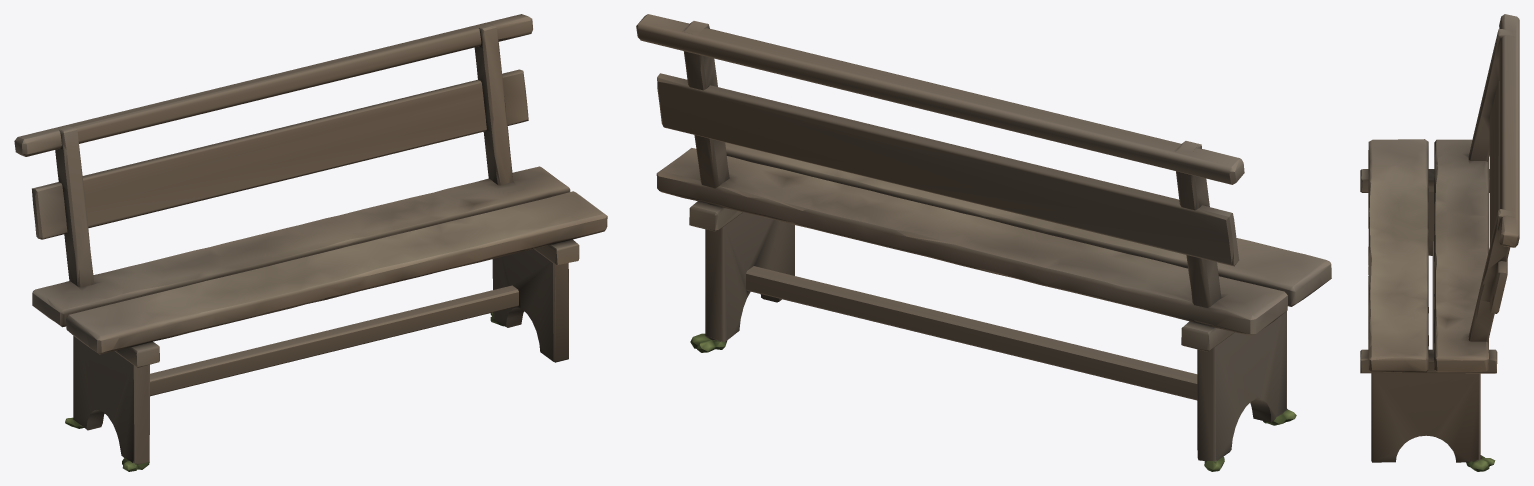
Rendered from lm_bench.glb.
3 views of the same model, side by side, from view 1: azimuth 30°, elevation 25°; view 2: azimuth 150°, elevation 25°; view 3: azimuth 270°, elevation 25° (orthographic). The views are drawn at different scales.
Parts seen in each view (by area): view 1: lm_bench_LOD0; view 2: lm_bench_LOD0; view 3: lm_bench_LOD0.
Boxes of the visible parts, <box> form: lm_bench_LOD0: <box>14,14,607,471</box>; lm_bench_LOD0: <box>636,14,1331,471</box>; lm_bench_LOD0: <box>1360,14,1519,471</box>.
Size of what is drawn, in the model's own units: 1.9 by 1.03 by 0.5825.
